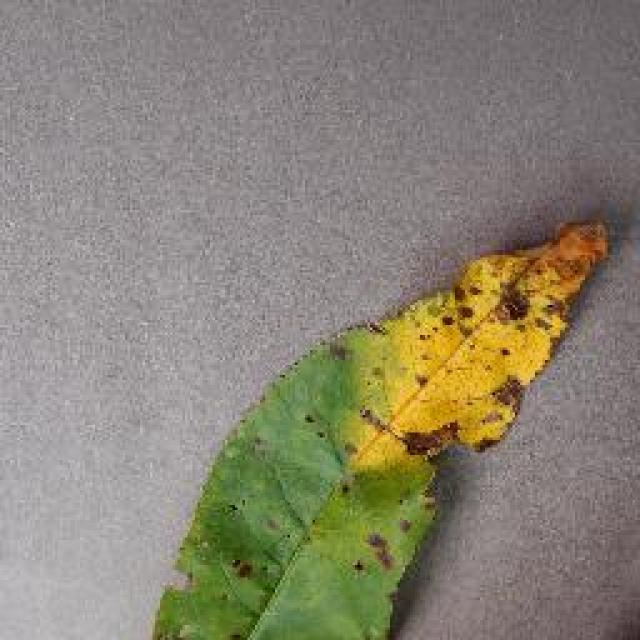Peach_Bacterial_Spot: (235, 293, 640, 600)
